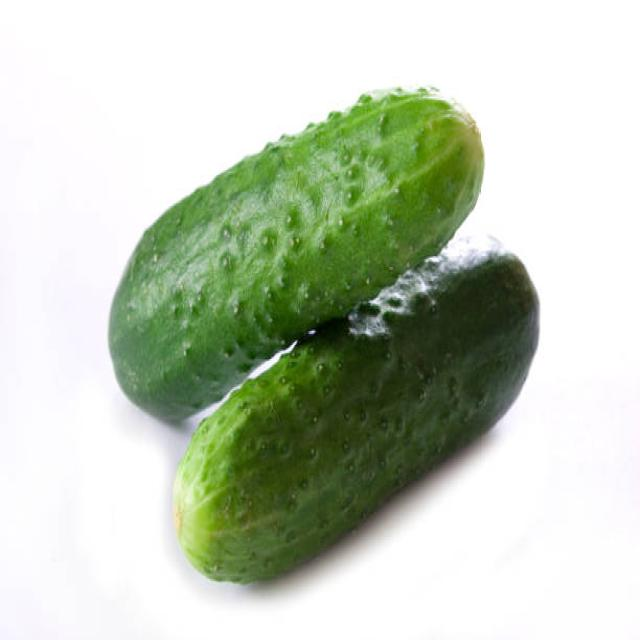cucumber: (171, 220, 541, 588), (108, 89, 484, 418)
